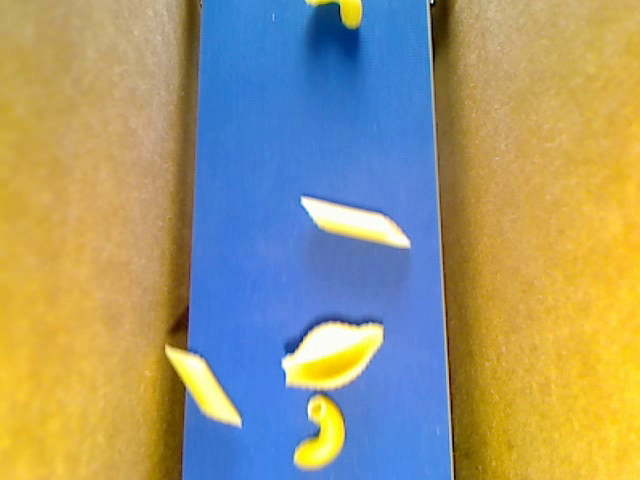elbow: (293, 393, 344, 469), (304, 1, 362, 28)
penne: (165, 345, 241, 426), (301, 196, 410, 249)
shell: (281, 322, 384, 393)
